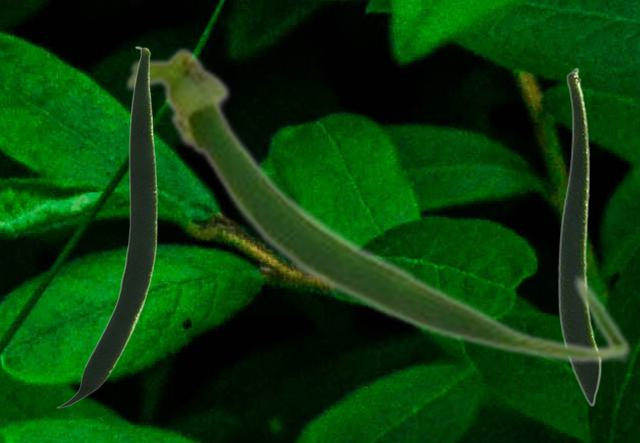french_bean: (122, 43, 632, 365), (56, 46, 156, 407), (557, 67, 601, 406)
